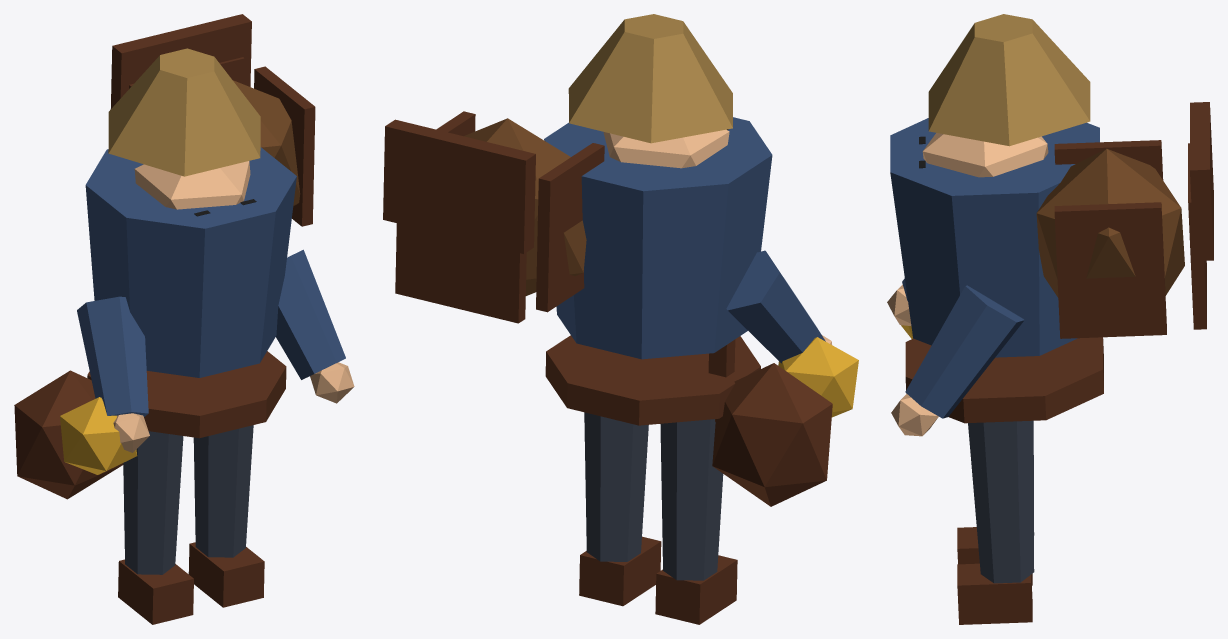
The model's file is npcpose_merchant_greet_01.glb.
The picture shows the model from 3 angles, left to right: view 1: azimuth 30°, elevation 25°; view 2: azimuth 150°, elevation 25°; view 3: azimuth 270°, elevation 25°; orthographic projection. The views are drawn at different scales.
Visible parts, largest first — view 1: npcpose; view 2: npcpose; view 3: npcpose.
Boxes of the visible parts, x1=… form: npcpose: x1=14, y1=14, x2=354, y2=624; npcpose: x1=383, y1=14, x2=858, y2=624; npcpose: x1=887, y1=14, x2=1213, y2=624.
Bounding box in the file's own units: 1.2 × 1.88 × 0.9781.
